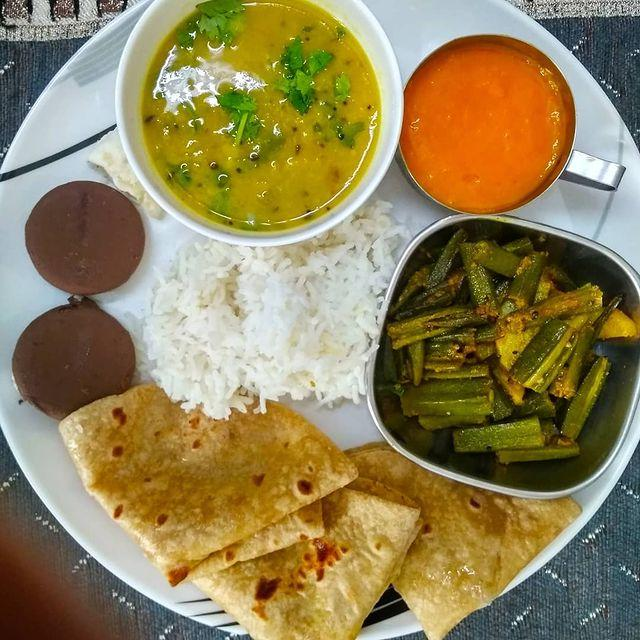Roti: (42, 400, 564, 626)
White Rice: (138, 222, 395, 414)
